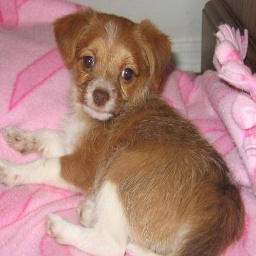dog: (9, 10, 246, 256)
